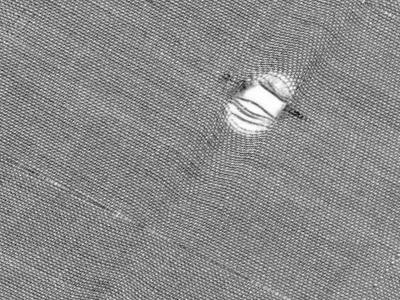hole: (221, 65, 299, 137)
